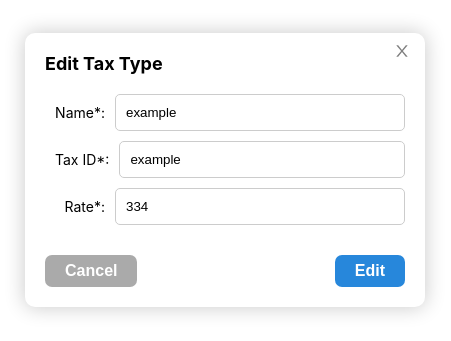
Scenario: Tax Add/Edit › should validate input fields on Edit - tax ID
Step 1. Clear the field named "input-field" next to "Tax ID*:" → (262, 160), box 119,141 -> 405,178
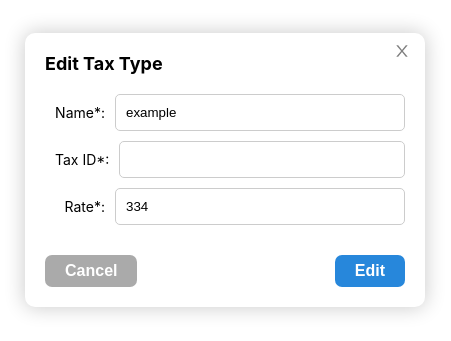
Step 2. Click the button with aria-label "primary-button" → (370, 271), box 335,255 -> 405,287
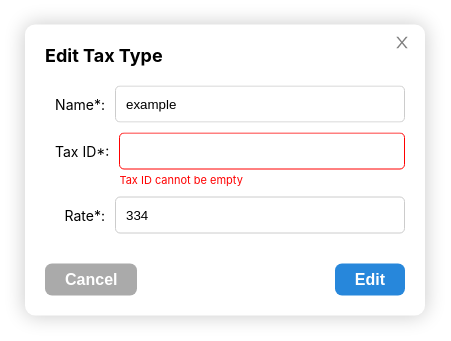
Check: the text "Tax ID cannot be empty" is shown, box 119,172 -> 243,186
